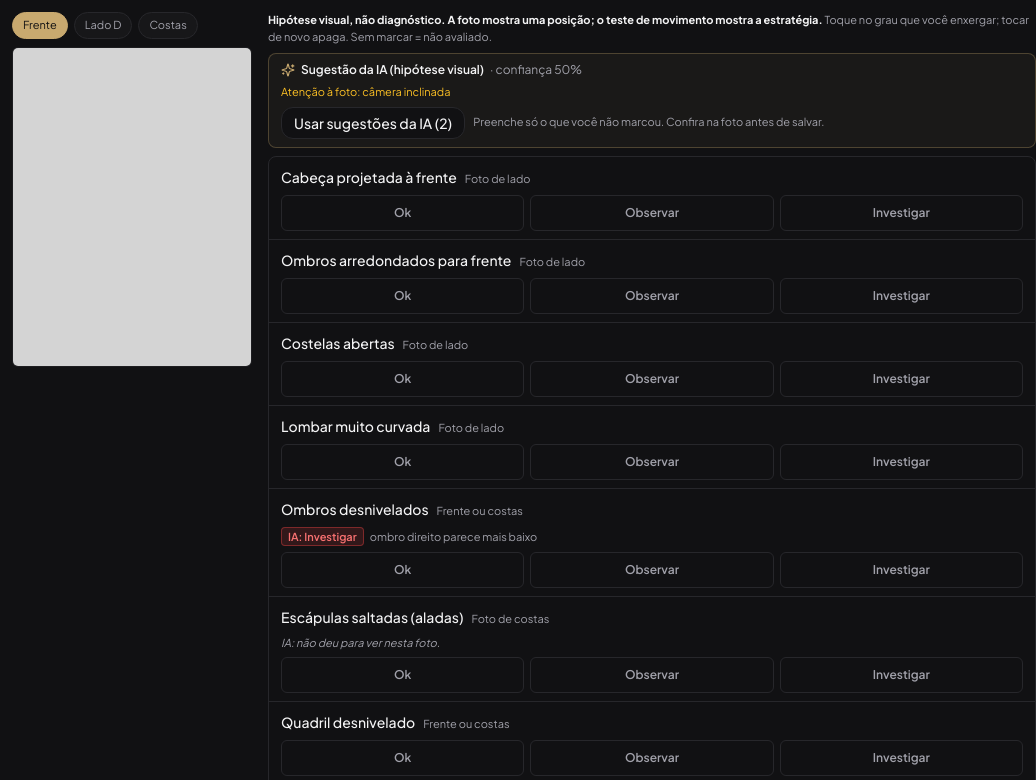
Test: Postura rápida — marcação em poucos toques › sugestão da IA: mostra o que viu e só preenche o que o coach não marcou
This screenshot has width=1036, height=780.
expect the element with test id "posture-ai-panel" shows "confiança 50%": met, box [268, 53, 1035, 148]
expect the element with test id "posture-ai-panel" shows "câmera inclinada": met, box [362, 85, 450, 98]
# coach já marcou ombros como Ok: a IA não sobrescreve
Click the button "Ok" below "ombro direito parece mais baixo" at (403,570), box [281, 552, 524, 588]
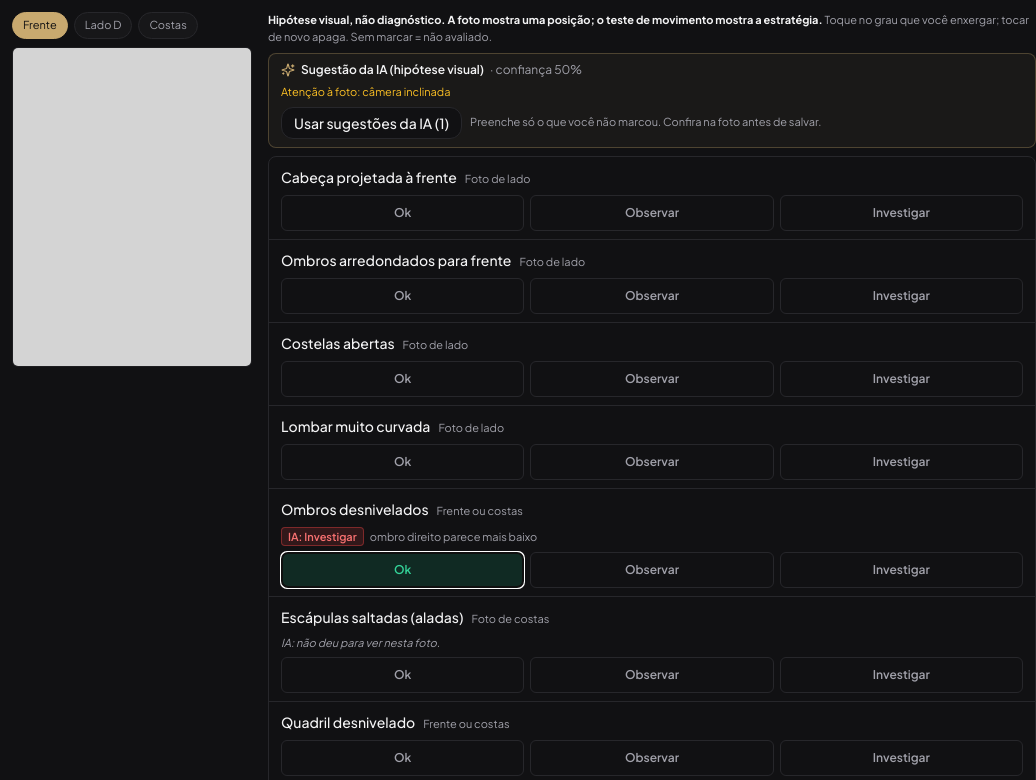
Click the button with test id "posture-use-ai" at (372,122), box [281, 106, 462, 138]
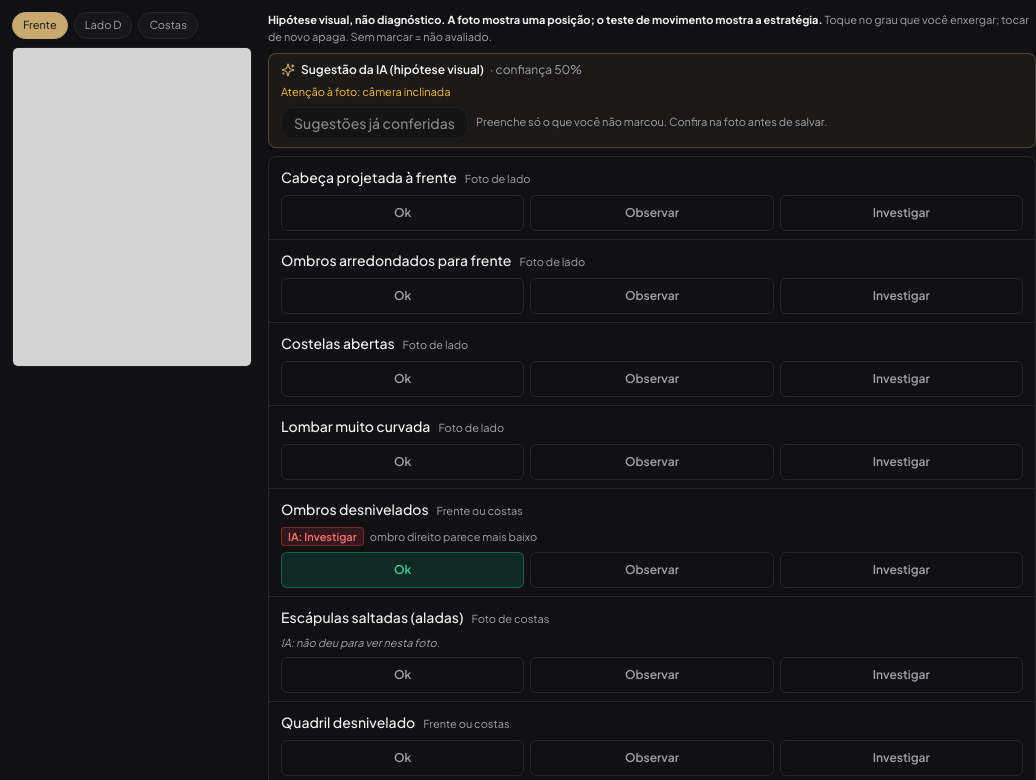
expect the button "Ok" below "ombro direito parece mais baixo" is pressed: met, box [281, 552, 524, 588]
